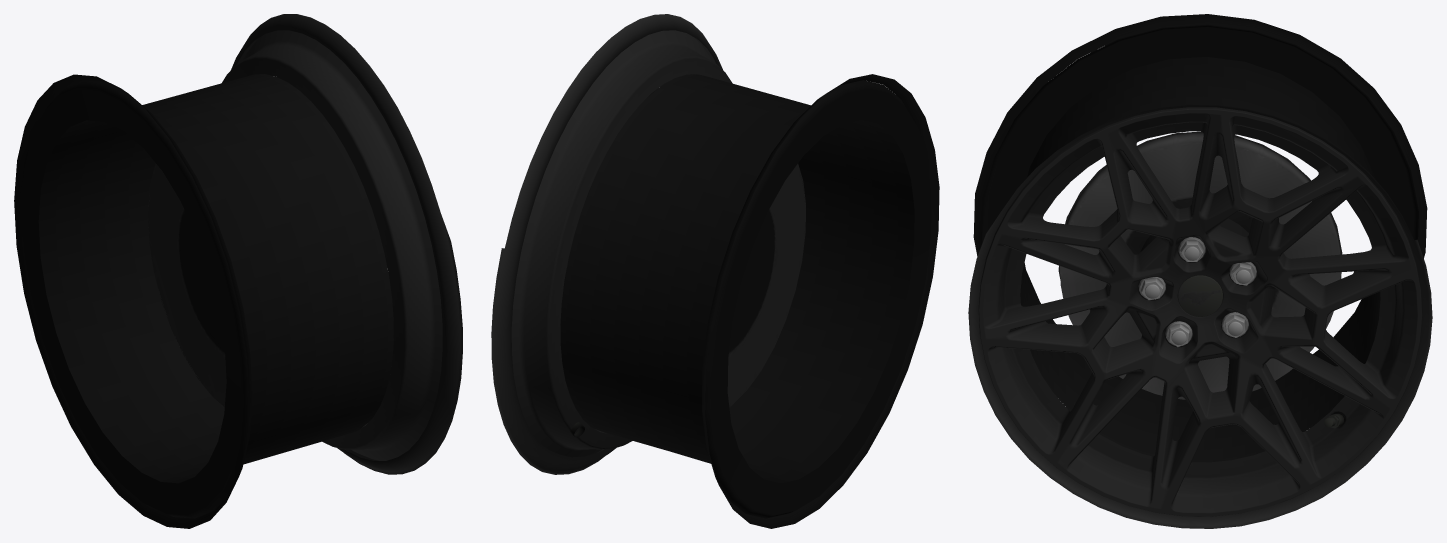
The model's file is oem-mustang.glb.
3 views of the same model, side by side, from view 1: azimuth 30°, elevation 25°; view 2: azimuth 150°, elevation 25°; view 3: azimuth 270°, elevation 25° (orthographic). The views are drawn at different scales.
Parts seen in each view (by area): view 1: rim; view 2: rim; view 3: rim.
Boxes of the visible parts, x1=… form: rim: x1=14, y1=14, x2=462, y2=528; rim: x1=491, y1=14, x2=939, y2=528; rim: x1=968, y1=14, x2=1432, y2=528.
Size of the model in its own units: 0.2964 by 0.5449 by 0.5455.
Materials: 1 (1 with a texture image).
